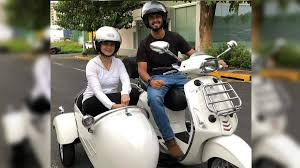helmet: (140, 1, 169, 32), (93, 26, 121, 57)
